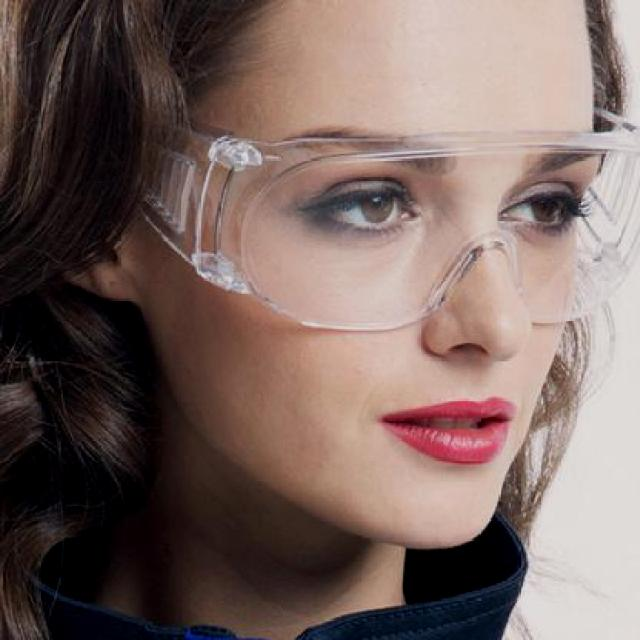face_nomask: (314, 146, 583, 492)
glasses: (120, 103, 638, 335)
